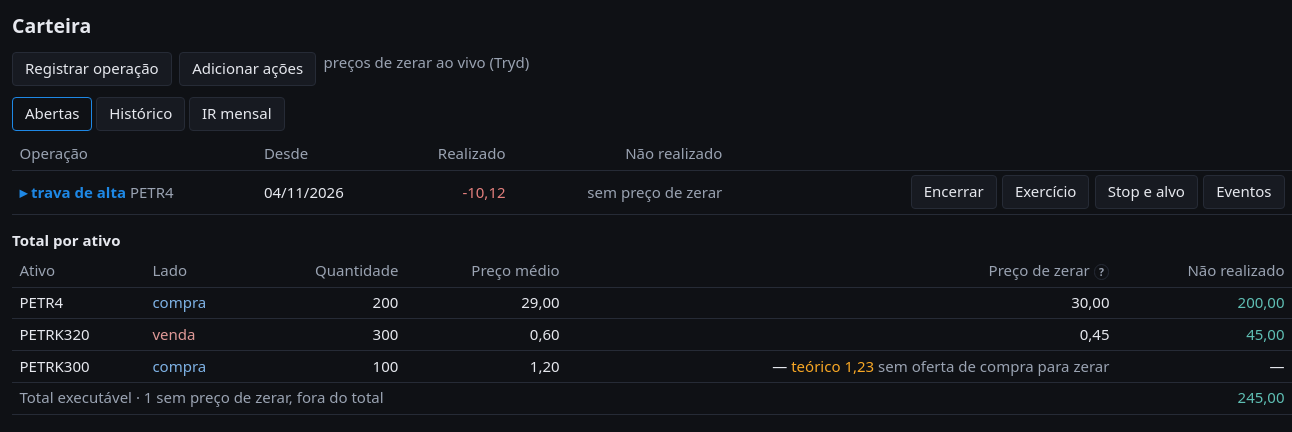
Test: a aba IR mensal busca e mostra o IR
Expected: the button "▸ trava de alta" is shown, left=20, top=182, right=126, bottom=203
Click the tab "IR mensal": click(237, 114) left=189, top=97, right=284, bottom=131
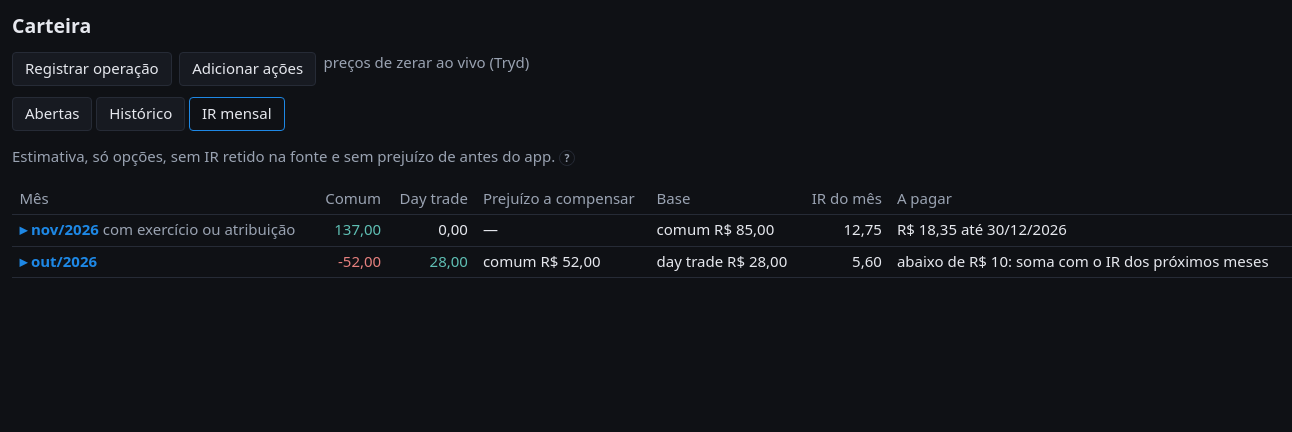
Result: the text "R$ 18,35 até 30/12/2026" is shown at left=889, top=214, right=1291, bottom=246
Result: the text "abaixo de R$ 10: soma com o IR dos próximos meses" is shown at left=889, top=246, right=1291, bottom=278
Result: the button "trava de alta" is gone
